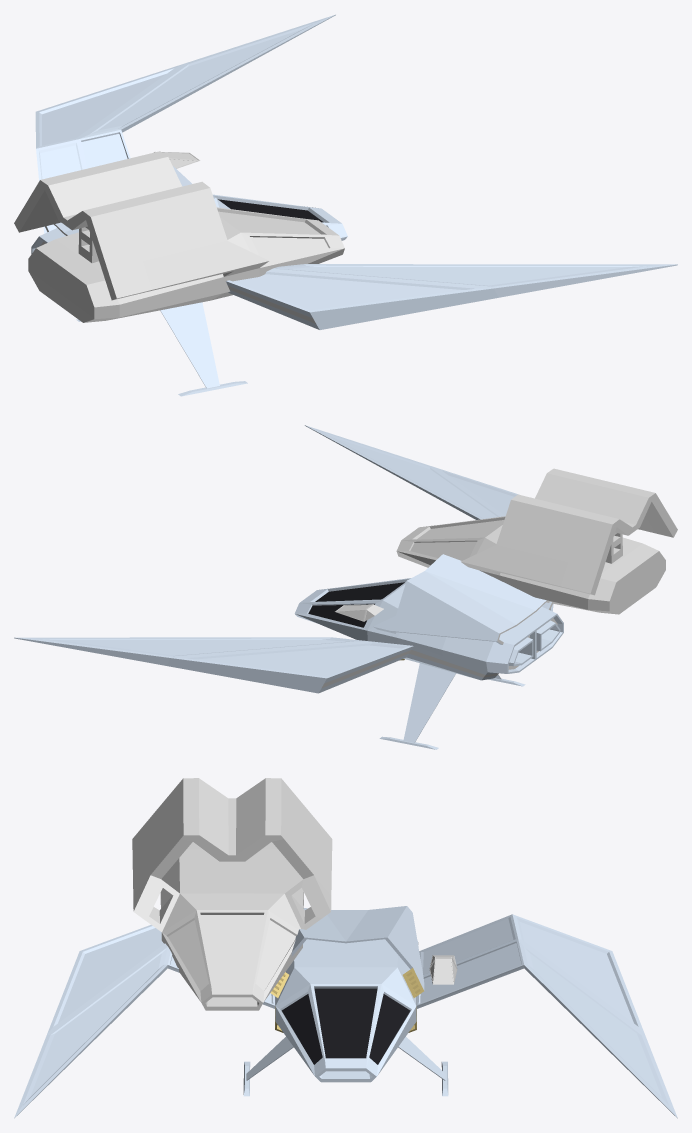
File: Raumschiff_erster_versuch.fbx
3 renders of one model, top to bottom at view 1: azimuth 30°, elevation 25°; view 2: azimuth 150°, elevation 25°; view 3: azimuth 270°, elevation 25°, orthographic. The views are drawn at different scales.
Visible parts, largest first — view 1: Raumschiff korpus.001, Raumschiff korpus; view 2: Raumschiff korpus.001, Raumschiff korpus, Cockpit design; view 3: Raumschiff korpus.001, Raumschiff korpus, Cockpit design.
Part boxes in pixels (bbox=[...]): Raumschiff korpus.001: bbox=[31, 14, 677, 396]; Raumschiff korpus: bbox=[14, 151, 344, 322]; Raumschiff korpus.001: bbox=[14, 425, 563, 749]; Raumschiff korpus: bbox=[396, 468, 677, 614]; Cockpit design: bbox=[335, 604, 383, 621]; Raumschiff korpus.001: bbox=[14, 906, 677, 1118]; Raumschiff korpus: bbox=[132, 778, 332, 1010]; Cockpit design: bbox=[429, 955, 457, 984].
Size of the model in its own units: 3690 by 1647 by 4331.
